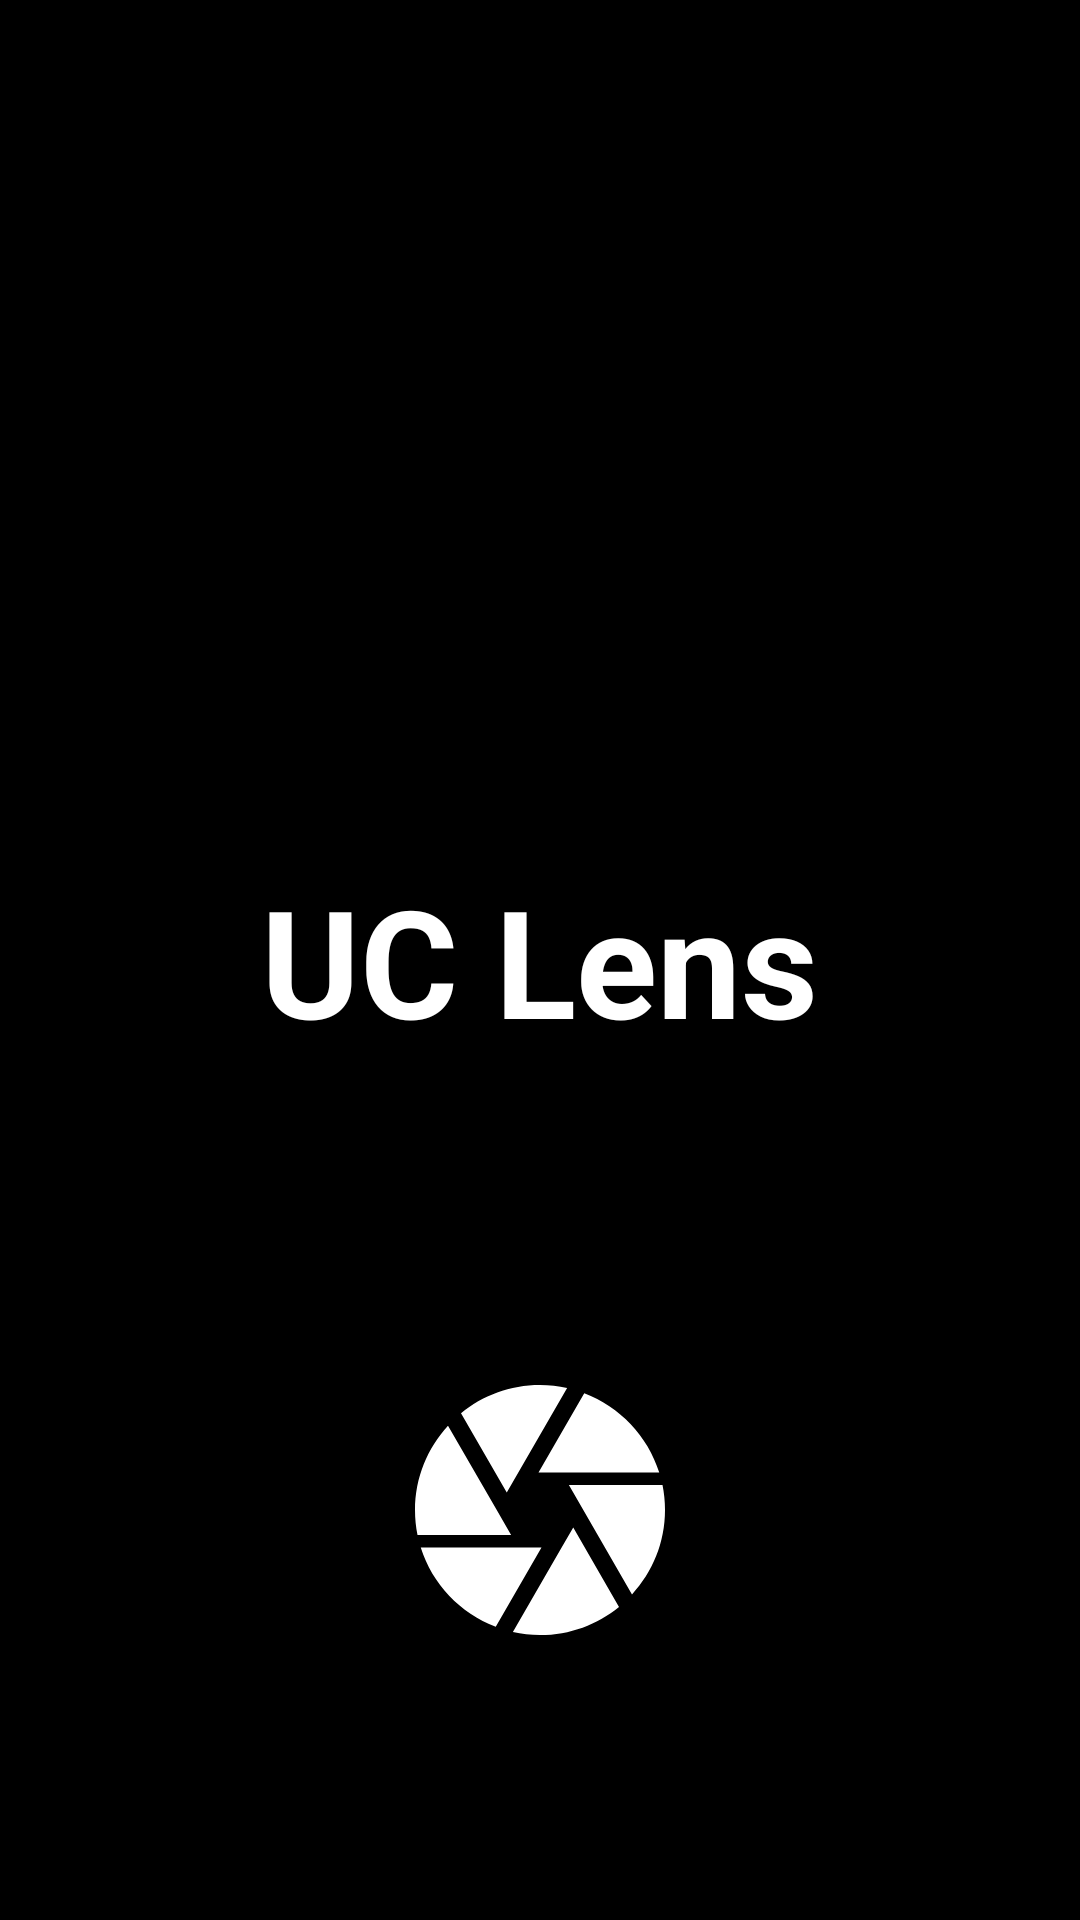

Where to tap for icons on this 1080*1920 app screen, as [x,y]:
camera: [540,1510]
